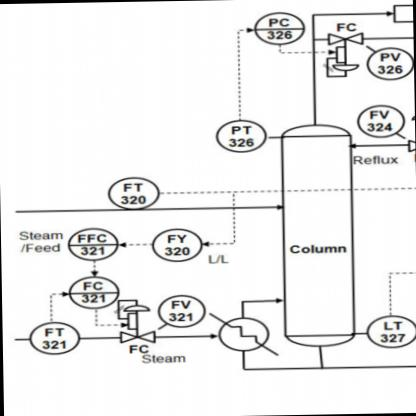LMI: (214, 119, 268, 162), (100, 176, 160, 210), (364, 314, 415, 354), (28, 320, 80, 359), (156, 290, 207, 328), (354, 102, 405, 139), (150, 227, 202, 262), (364, 46, 413, 82)
